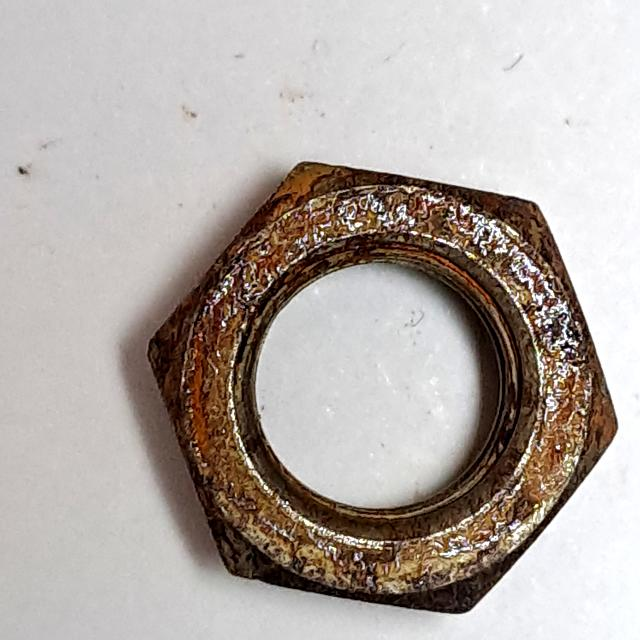Rust: (132, 156, 640, 631)
